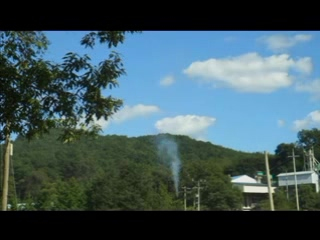smoke: (155, 136, 183, 199)
